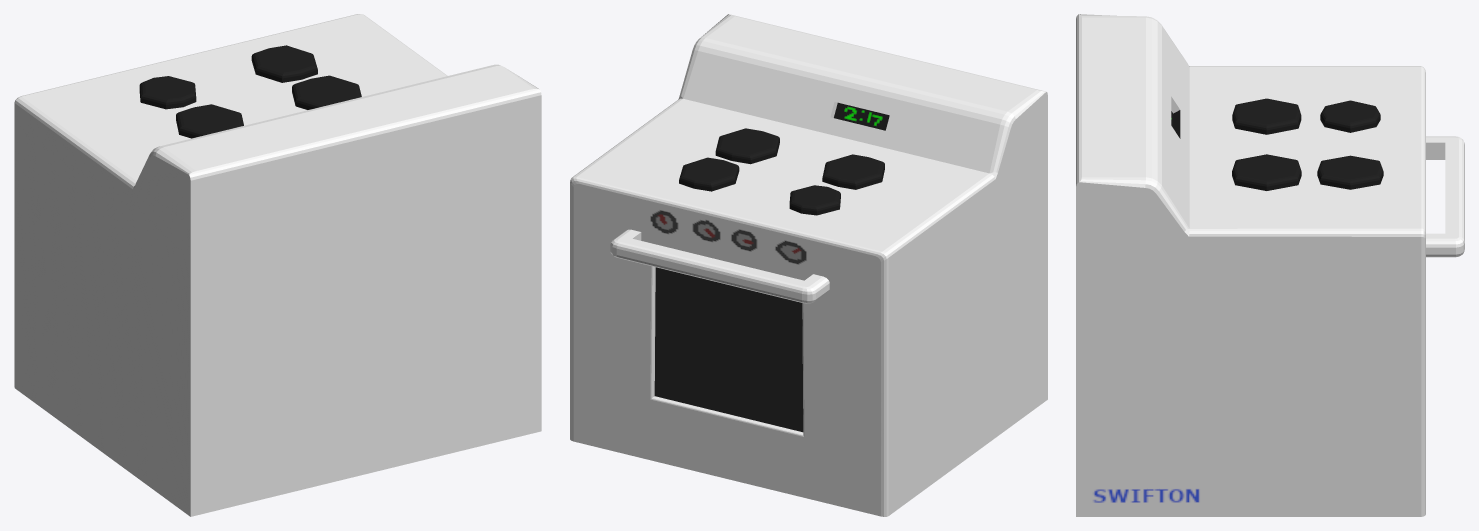
File: stove_1.fbx
3 renders of one model, left to right at view 1: azimuth 30°, elevation 25°; view 2: azimuth 150°, elevation 25°; view 3: azimuth 270°, elevation 25°, orthographic. The views are drawn at different scales.
Visible parts, largest first — view 1: Stove; view 2: Stove; view 3: Stove.
Boxes of the visible parts, left/top/right/bottom form: Stove: left=14, top=14, right=541, bottom=516; Stove: left=570, top=14, right=1047, bottom=516; Stove: left=1076, top=14, right=1464, bottom=516.
Size of the model in its own units: 1277 by 1188 by 1247.
